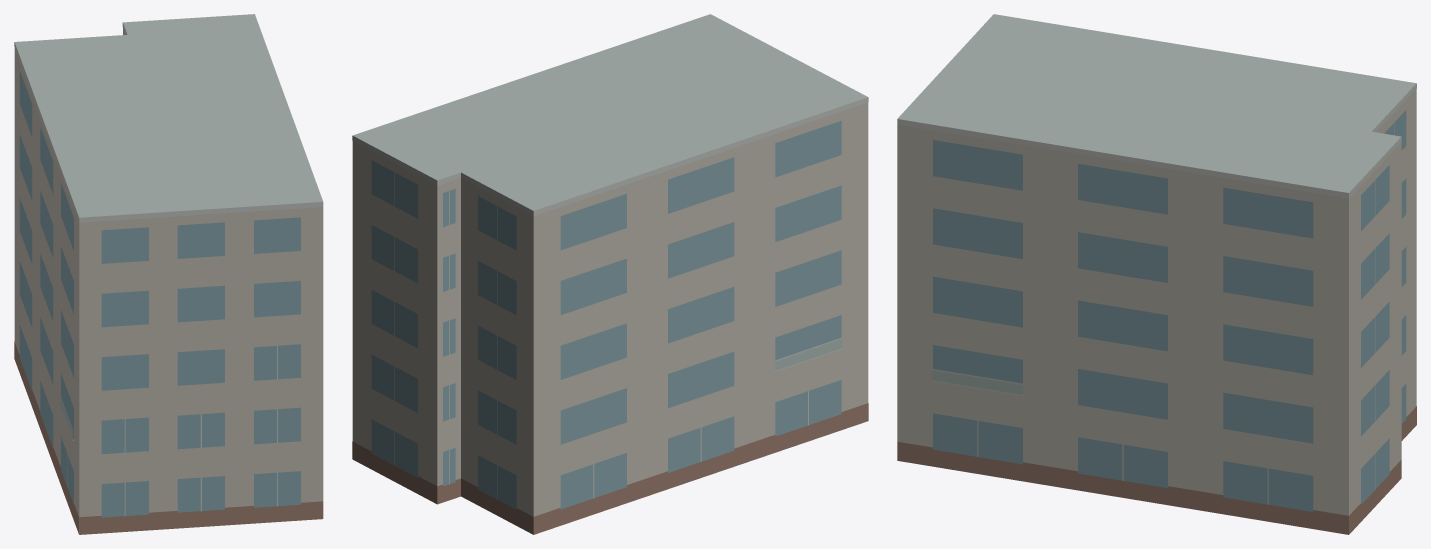
The model's file is survey-upis-32753034.glb.
3 views of the same model, side by side, from view 1: azimuth 30°, elevation 25°; view 2: azimuth 150°, elevation 25°; view 3: azimuth 270°, elevation 25° (orthographic). The views are drawn at different scales.
Parts seen in each view (by area): view 1: survey-upis-32753034.tmp; view 2: survey-upis-32753034.tmp; view 3: survey-upis-32753034.tmp.
Part boxes in pixels (x1,y1,x2,y2): survey-upis-32753034.tmp: (14,14,323,534); survey-upis-32753034.tmp: (352,14,868,534); survey-upis-32753034.tmp: (897,14,1416,534).
Bounding box in the file's own units: 17.14 × 15.25 × 21.01.
